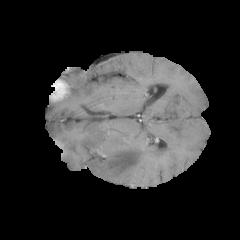glioma: (85, 130, 171, 181)
